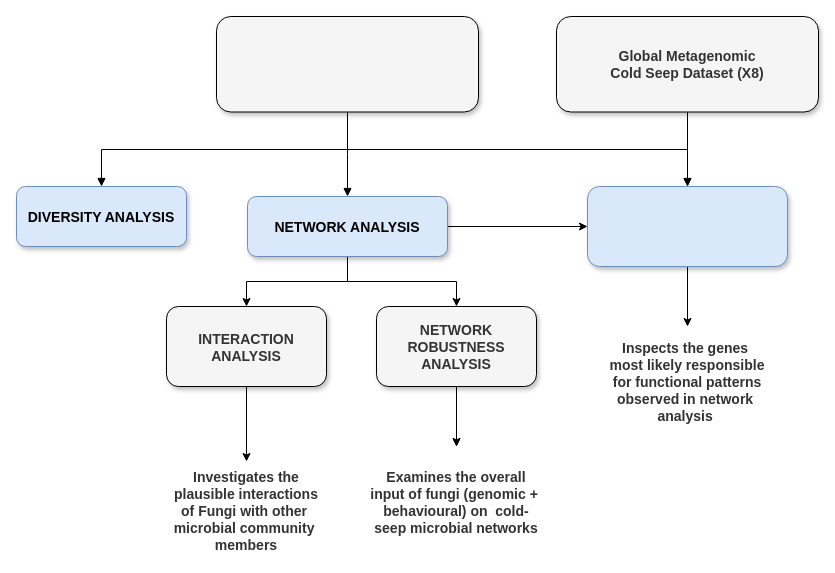
Image size: 835x573. Some labels were removed from this diagram. Here are the shapes that lost their labels. From the top down, the centre of each, then its label:
At pixel 348 65: "Haima Cold Seep Amplicon & Metagenomic Dataset".
At pixel 688 228: "FUNCTIONAL METAGENOMIC ANALYSIS".
